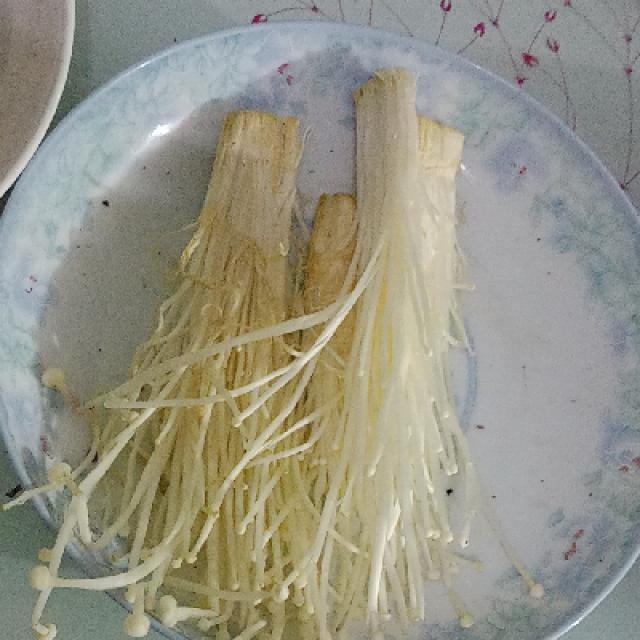Flammulina velutiper: (16, 70, 469, 640)
